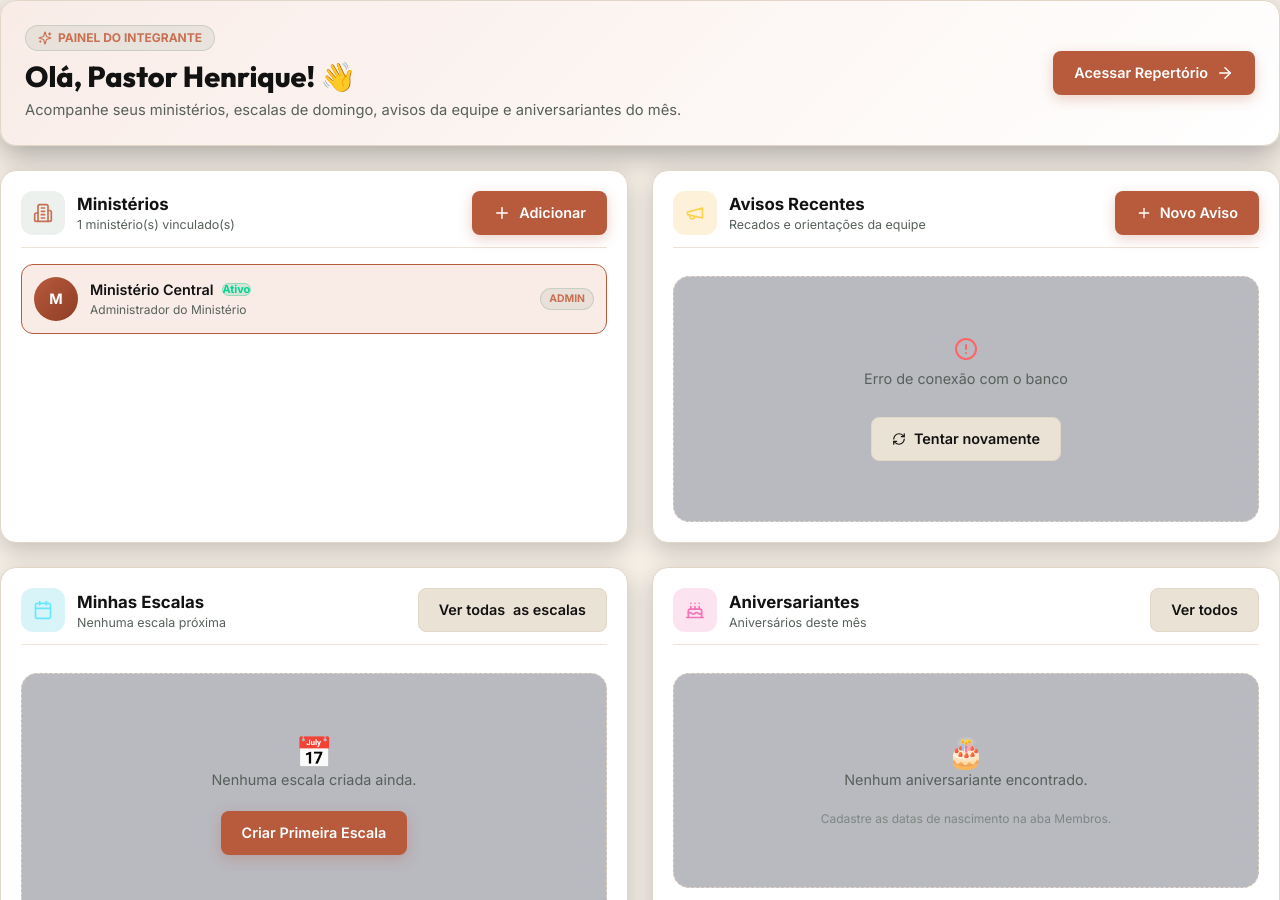
Test: DashboardView - Persisted Announcements › 5. Exibe alerta de erro e permite tentar novamente sem colisão com empty state
Check: the text "Erro de conexão com o banco" is shown, box x1=864 y1=369 x2=1068 y2=390
Click the button "Tentar novamente" at [966, 440], box x1=871 y1=418 x2=1061 y2=462
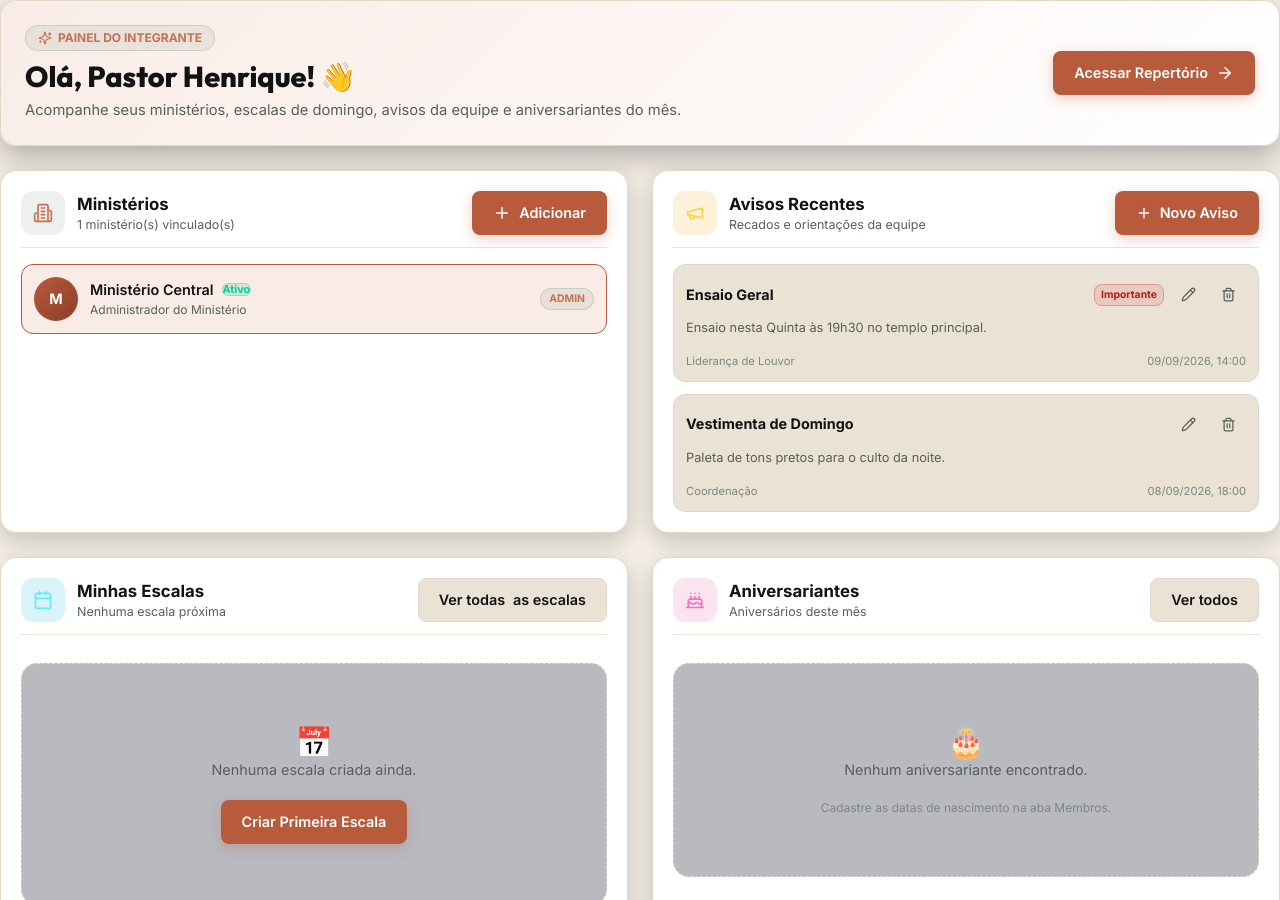
Check: the text "Ensaio Geral" is shown, box x1=686 y1=286 x2=774 y2=303
